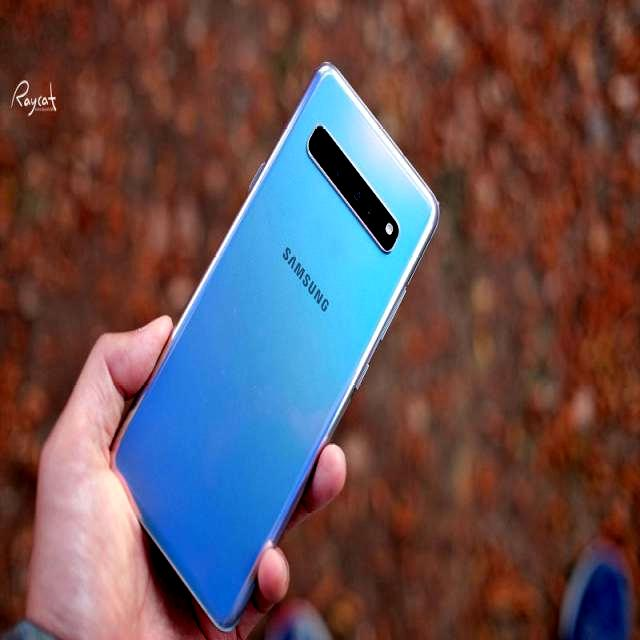lens_back: (314, 136, 330, 161), (333, 163, 350, 182), (350, 186, 364, 204)
phone: (117, 62, 448, 624)
